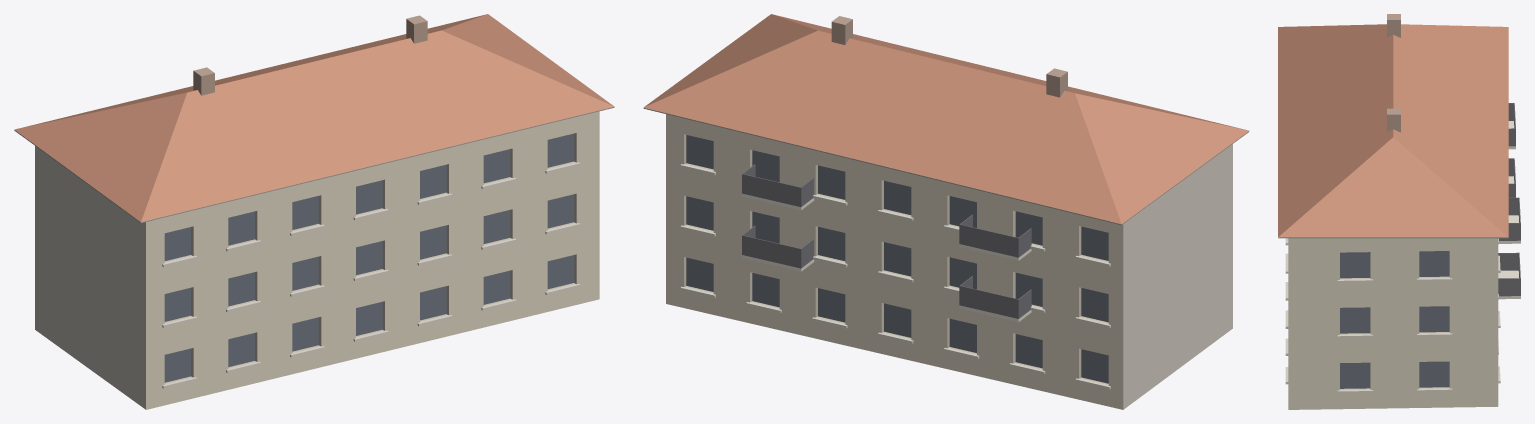
3 views of the same model, side by side, from view 1: azimuth 30°, elevation 25°; view 2: azimuth 150°, elevation 25°; view 3: azimuth 270°, elevation 25° (orthographic). The views are drawn at different scales.
Parts seen in each view (by area): view 1: CP_2073_Masonry, CP_2073_Roof, CP_2073_Roof_EaveClosure_0, CP_2073_Chimney_0, CP_2073_Chimney_1; view 2: CP_2073_Masonry, CP_2073_Roof, CP_2073_Balcony_1_rail_f, CP_2073_Balcony_3_rail_f, CP_2073_Balcony_0_rail_f, CP_2073_Balcony_2_rail_f, CP_2073_Roof_EaveClosure_2, CP_2073_Chimney_0, CP_2073_Chimney_1; view 3: CP_2073_Roof, CP_2073_Masonry, CP_2073_Roof_EaveClosure_1, CP_2073_Balcony_0_rail_l, CP_2073_Balcony_0_rail_r, CP_2073_Chimney_1, CP_2073_Chimney_0, CP_2073_Balcony_0_slab, CP_2073_Balcony_2_rail_l.
Boxes of the visible parts, x1,y1,x2,y2 form: CP_2073_Masonry: [35, 111, 599, 409]; CP_2073_Roof: [14, 14, 614, 222]; CP_2073_Roof_EaveClosure_0: [134, 107, 614, 222]; CP_2073_Chimney_0: [193, 67, 214, 95]; CP_2073_Chimney_1: [406, 15, 427, 43]; CP_2073_Masonry: [666, 114, 1232, 409]; CP_2073_Roof: [643, 14, 1249, 224]; CP_2073_Balcony_1_rail_f: [959, 285, 1019, 318]; CP_2073_Balcony_3_rail_f: [959, 224, 1019, 257]; CP_2073_Balcony_0_rail_f: [742, 235, 801, 268]; CP_2073_Balcony_2_rail_f: [742, 174, 801, 206]; CP_2073_Roof_EaveClosure_2: [655, 110, 1128, 224]; CP_2073_Chimney_0: [1046, 68, 1067, 97]; CP_2073_Chimney_1: [831, 16, 852, 44]; CP_2073_Roof: [1278, 24, 1508, 237]; CP_2073_Masonry: [1288, 238, 1498, 409]; CP_2073_Roof_EaveClosure_1: [1290, 237, 1508, 238]; CP_2073_Balcony_0_rail_l: [1498, 278, 1519, 296]; CP_2073_Balcony_0_rail_r: [1498, 252, 1518, 270]; CP_2073_Chimney_1: [1387, 108, 1400, 132]; CP_2073_Chimney_0: [1387, 14, 1400, 37]; CP_2073_Balcony_0_slab: [1498, 270, 1520, 299]; CP_2073_Balcony_2_rail_l: [1498, 223, 1519, 240].
Size of the model in its own units: 24.49 by 13.2 by 11.94.
